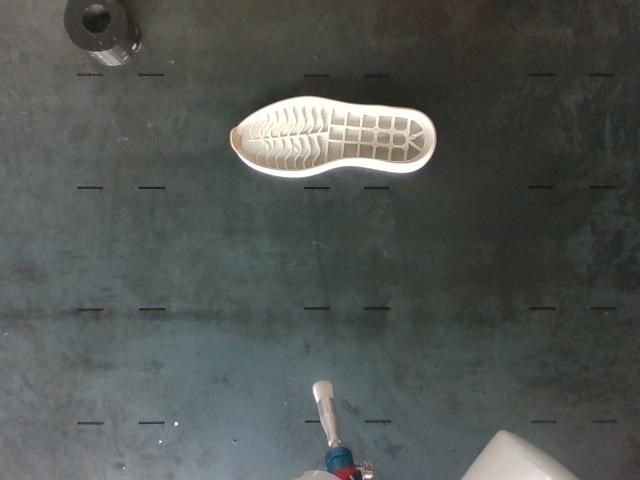shoes: (232, 98, 433, 171)
